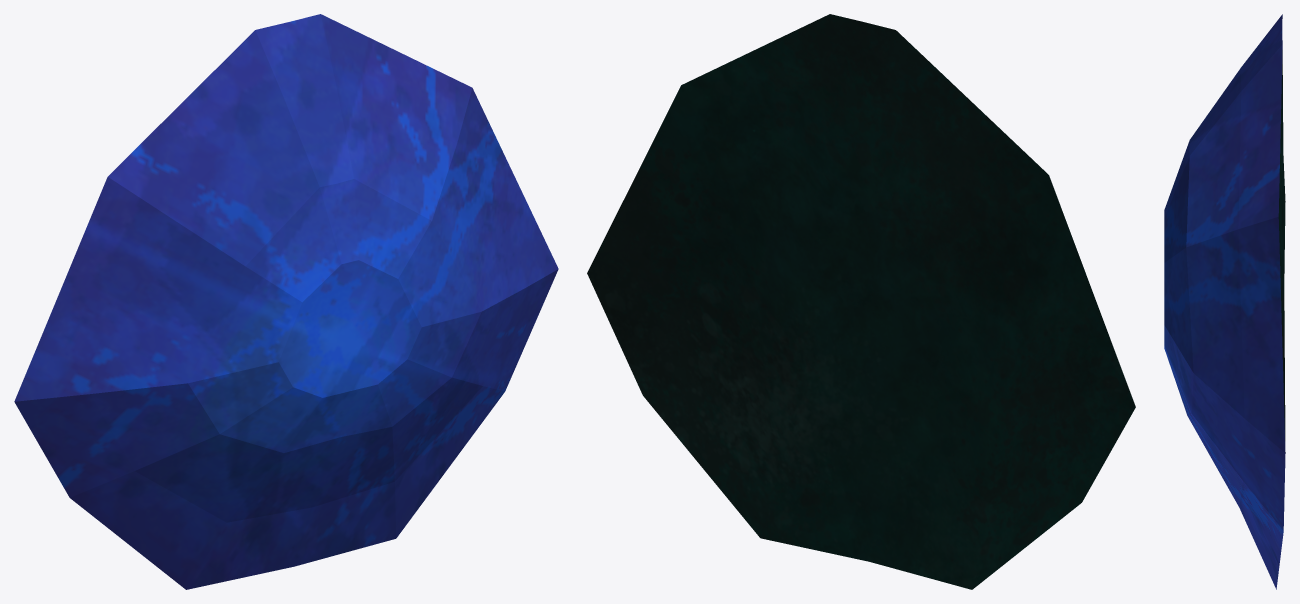
Rendered from MOD_L2_Crystal03.fbx.
3 renders of one model, left to right at view 1: azimuth 30°, elevation 25°; view 2: azimuth 150°, elevation 25°; view 3: azimuth 270°, elevation 25°, orthographic. The views are drawn at different scales.
Visible parts, largest first — view 1: Plane.006; view 2: Plane.006; view 3: Plane.006.
Part boxes in pixels (x1,y1,x2,y2): Plane.006: [14, 14, 558, 589]; Plane.006: [587, 14, 1135, 589]; Plane.006: [1164, 14, 1285, 589].
Size of the model in its own units: 4.68 by 4.44 by 0.9505.
